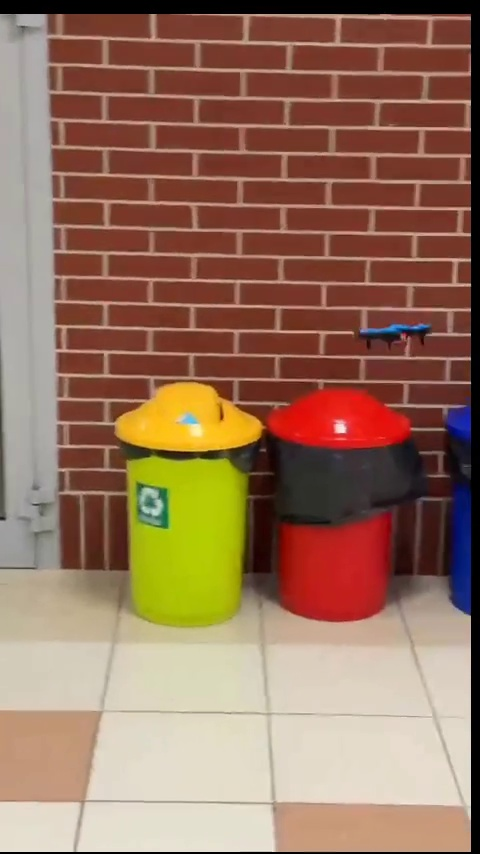drone: (354, 320, 434, 350)
